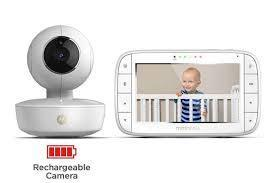maru: (24, 25, 94, 95)
